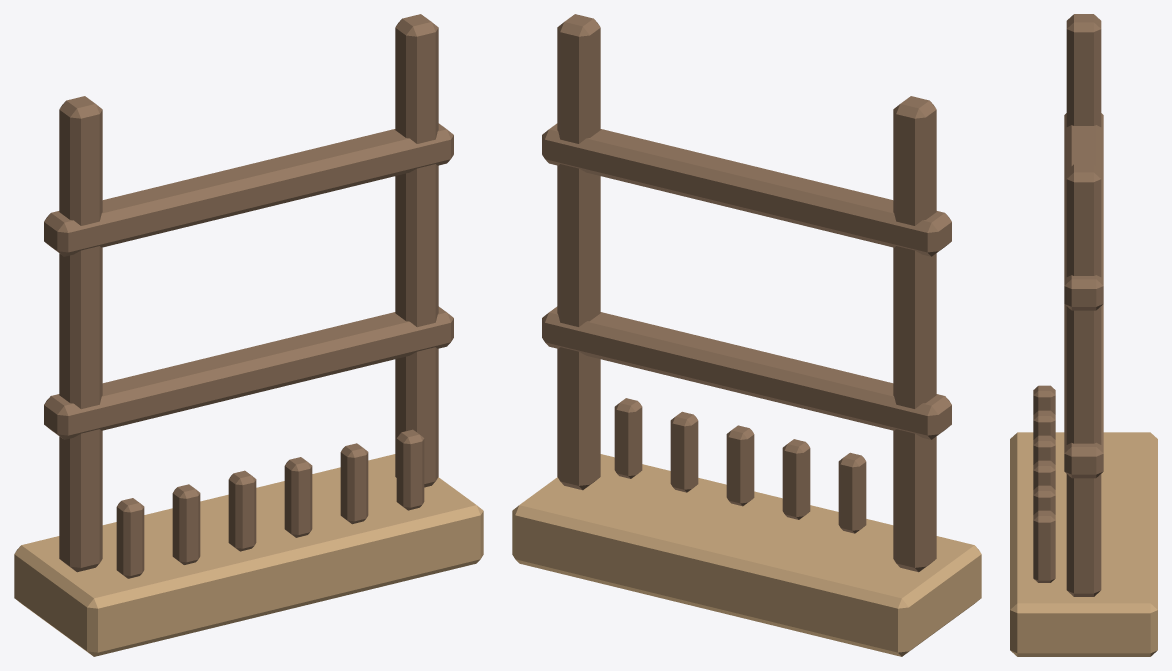
File: weapon-rack.glb
3 views of the same model, side by side, from view 1: azimuth 30°, elevation 25°; view 2: azimuth 150°, elevation 25°; view 3: azimuth 270°, elevation 25° (orthographic). The views are drawn at different scales.
Visible parts, largest first — view 1: weapon-rack; view 2: weapon-rack; view 3: weapon-rack.
Boxes of the visible parts, x1,y1,x2,y2 form: weapon-rack: (14, 14, 483, 656); weapon-rack: (512, 14, 981, 656); weapon-rack: (1010, 14, 1157, 656).
Bounding box in the file's own units: 1.7 × 2.14 × 0.6.
